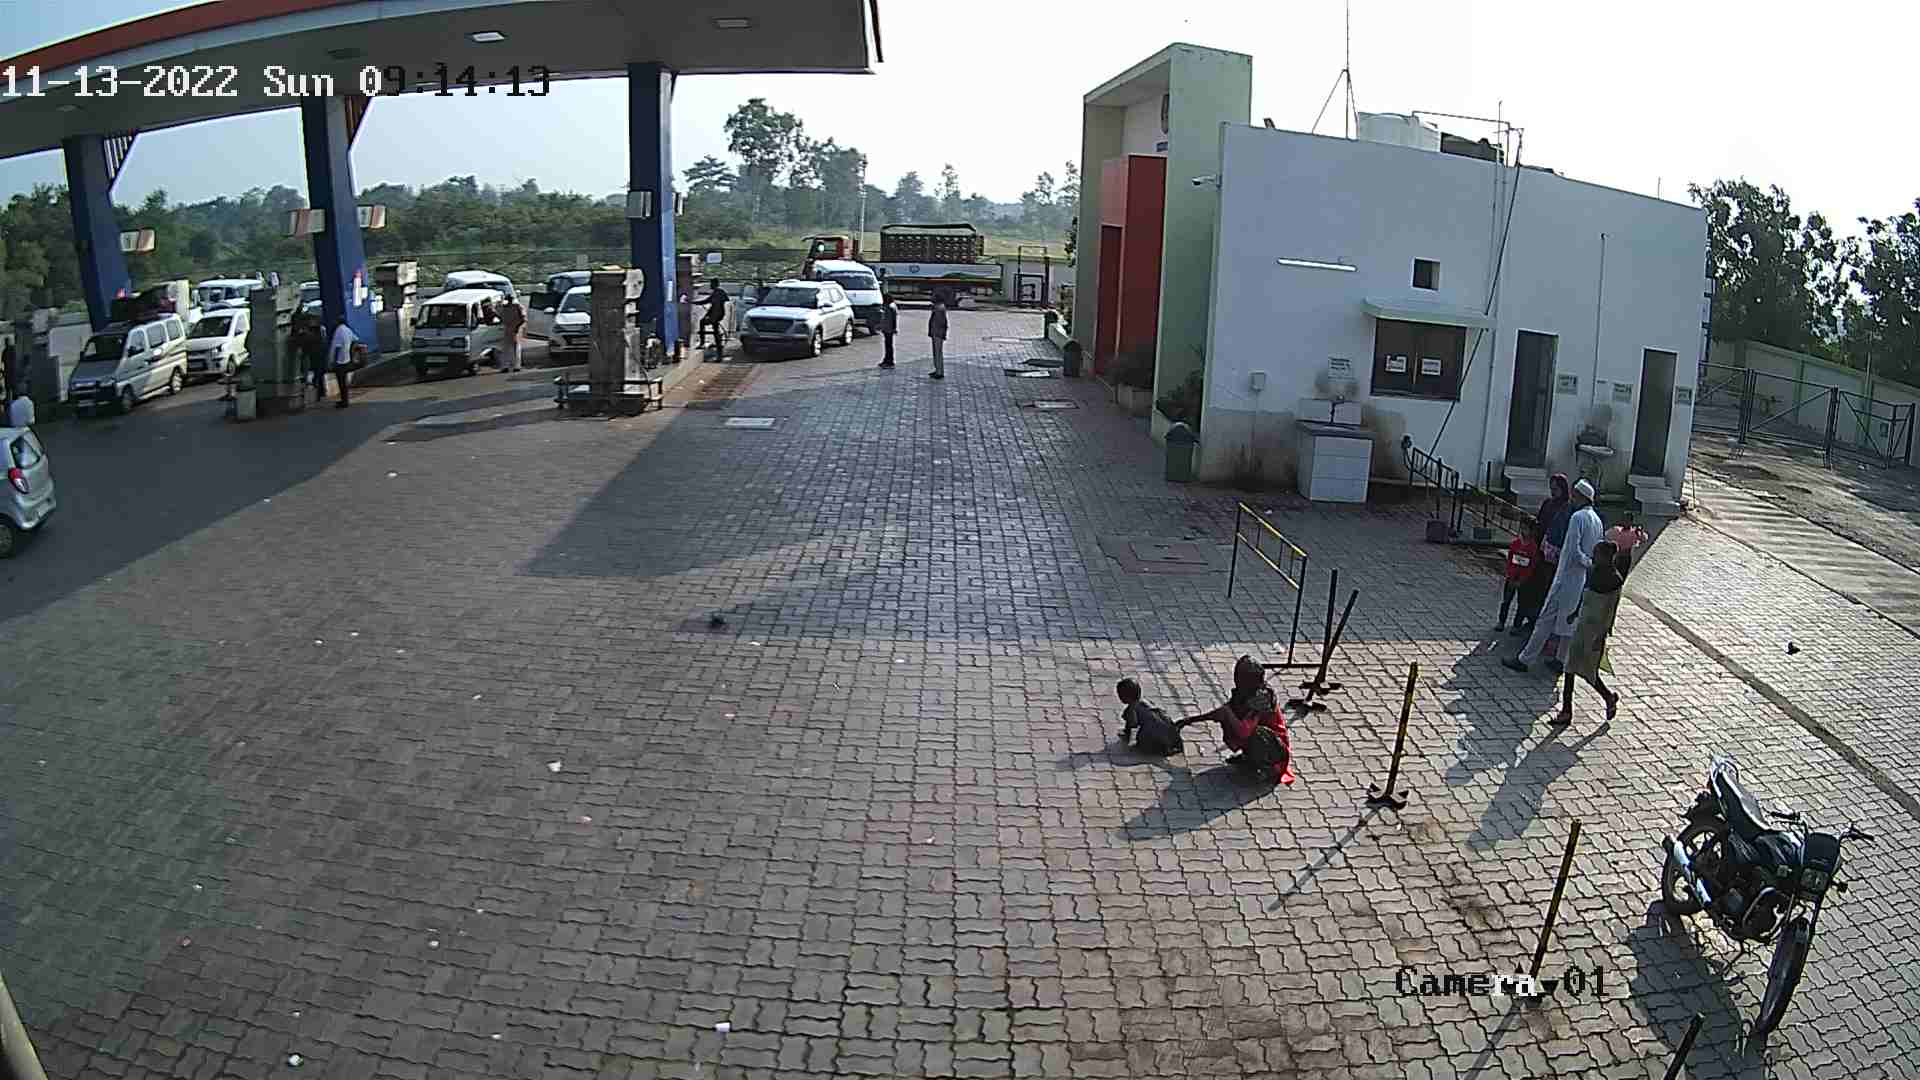Bike: (1648, 749, 1880, 1040)
Car: (55, 278, 196, 419), (0, 396, 66, 575), (727, 272, 860, 357), (404, 281, 512, 378), (799, 247, 893, 335), (518, 278, 609, 361), (177, 295, 256, 386), (436, 262, 526, 320), (285, 278, 334, 378), (190, 269, 272, 313), (525, 266, 603, 306)
HMV: (793, 219, 1011, 313)
